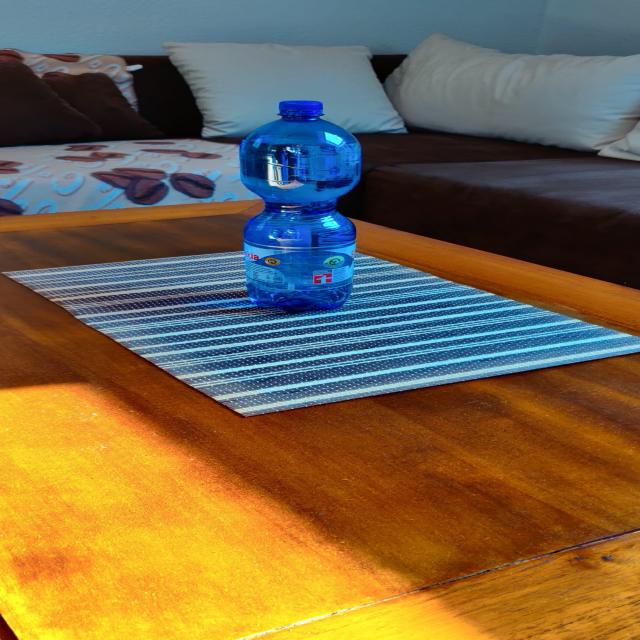bottle-plastic: (236, 99, 362, 314)
